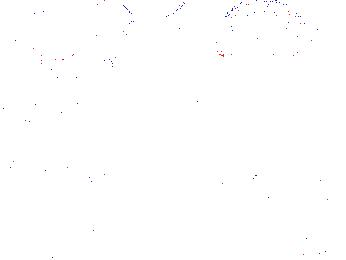moon jellyfish: (35, 9, 132, 76), (214, 1, 313, 58), (112, 17, 192, 61), (1, 25, 48, 89)
